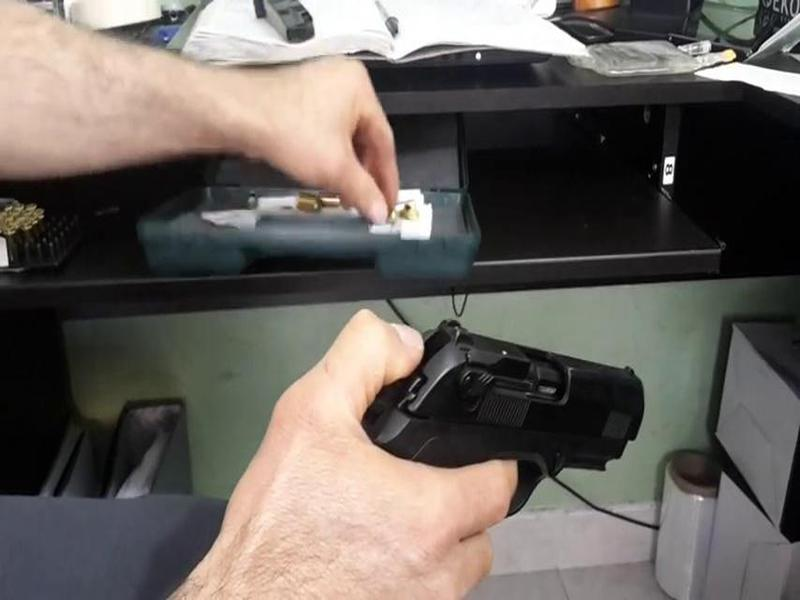Pistola: (352, 308, 658, 544)
